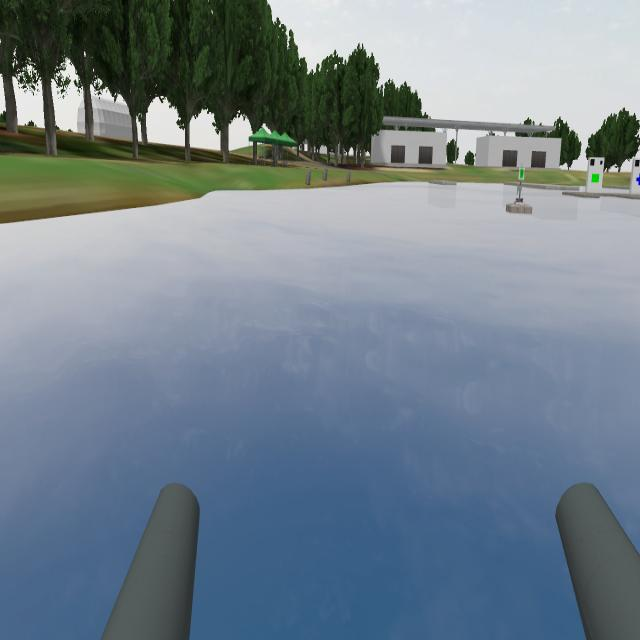green_pole: (515, 163, 528, 185)
